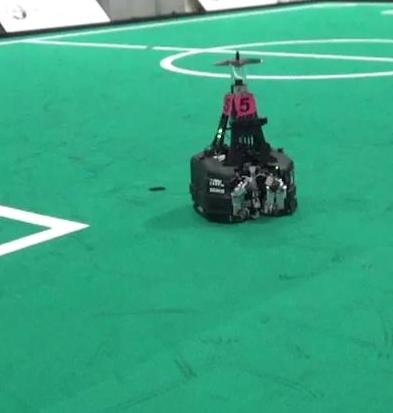robot: (186, 49, 299, 226)
